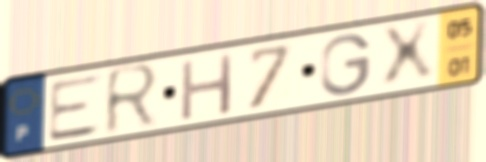7: (246, 40, 295, 113)
E: (45, 70, 107, 145)
G: (318, 31, 375, 99)
H: (178, 49, 237, 125)
R: (102, 60, 164, 140)
X: (376, 17, 438, 93)
